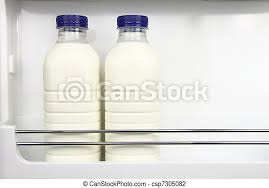milk: (42, 9, 102, 158), (105, 11, 164, 159)
